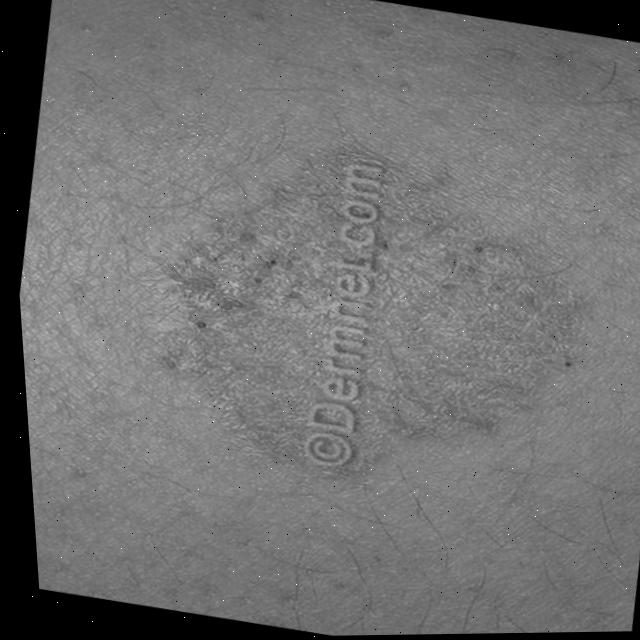Eczema: (158, 148, 566, 474)
